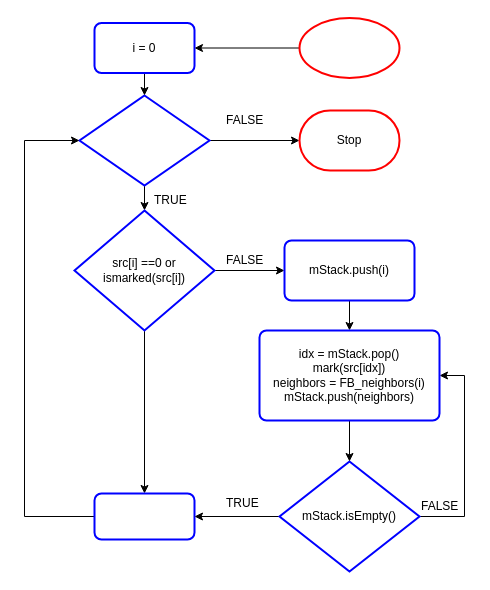
Some shapes in this 490 by 590 pixel diagram are drawn without their labels. Each missing label, with the centre of its shape:
i < rows*cols - 1: point 144,140
i++: point 144,516
Start: point 349,47
